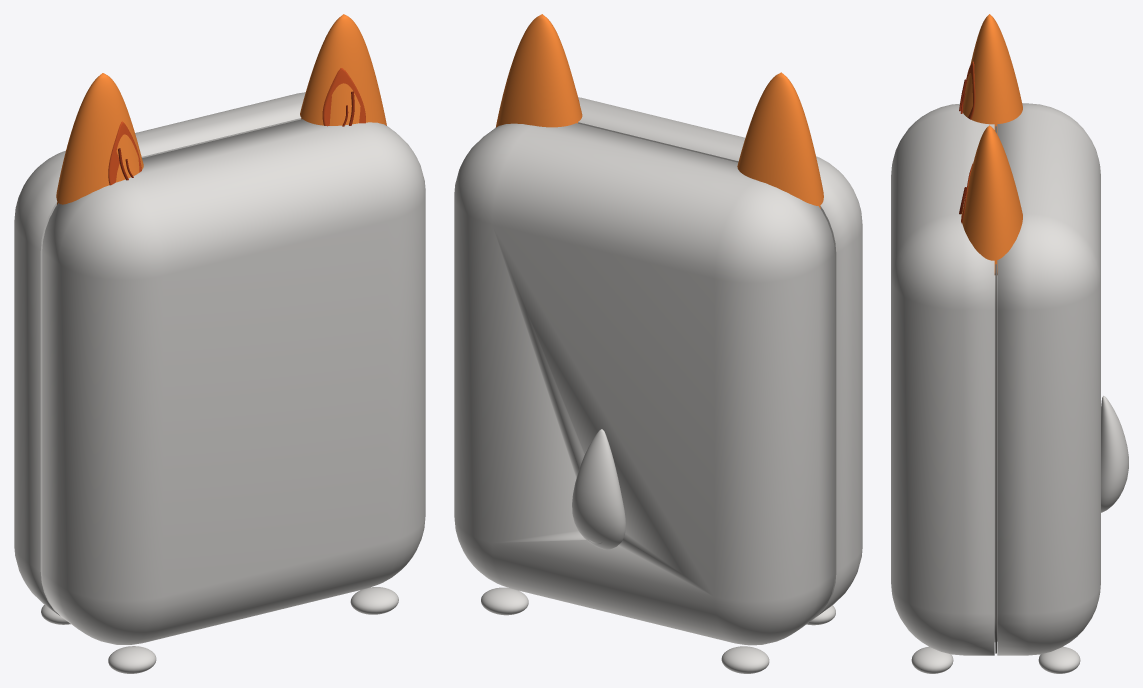
Rendered from PocketMung_reference_assembly.glb.
The picture shows the model from 3 angles, left to right: view 1: azimuth 30°, elevation 25°; view 2: azimuth 150°, elevation 25°; view 3: azimuth 270°, elevation 25°; orthographic projection. The views are drawn at different scales.
Visible parts, largest first — view 1: REF_Body_Front_Blank, REF_Body_Rear, Ear_Left_Orange, Ear_Right_Orange, Foot_L_Front, Foot_R_Front, Ear_Right_Inner_Recess, Ear_Left_Inner_Recess; view 2: REF_Body_Rear, REF_Body_Front_Blank, Ear_Left_Orange, Ear_Right_Orange, Tail_Teardrop, Foot_L_Rear, Foot_R_Rear; view 3: REF_Body_Rear, REF_Body_Front_Blank, Ear_Right_Orange, Ear_Left_Orange, Tail_Teardrop, Rear_Alignment_Lip, Foot_R_Front, Foot_R_Rear, Reference_Seam_Shadow.
Part boxes in pixels (x1,y1,x2,y2): REF_Body_Front_Blank: (42, 119, 425, 644); REF_Body_Rear: (14, 92, 305, 616); Ear_Left_Orange: (56, 73, 143, 204); Ear_Right_Orange: (300, 14, 386, 125); Foot_L_Front: (108, 646, 156, 673); Foot_R_Front: (350, 587, 398, 614); Ear_Right_Inner_Recess: (322, 68, 365, 126); Ear_Left_Inner_Recess: (108, 121, 141, 185); REF_Body_Rear: (454, 123, 834, 645); REF_Body_Front_Blank: (578, 97, 862, 616); Ear_Left_Orange: (737, 72, 823, 208); Ear_Right_Orange: (495, 14, 582, 127); Tail_Teardrop: (572, 429, 625, 549); Foot_L_Rear: (721, 646, 769, 673); Foot_R_Rear: (481, 587, 528, 615); REF_Body_Rear: (997, 103, 1100, 655); REF_Body_Front_Blank: (891, 103, 994, 655); Ear_Right_Orange: (961, 125, 1022, 274); Ear_Left_Orange: (962, 14, 1022, 133); Tail_Teardrop: (1101, 395, 1128, 512); Rear_Alignment_Lip: (994, 275, 997, 641); Foot_R_Front: (911, 646, 953, 673); Foot_R_Rear: (1038, 646, 1080, 673); Reference_Seam_Shadow: (995, 126, 996, 653).
Bounding box in the file's own units: 78 × 120 × 47.58.
